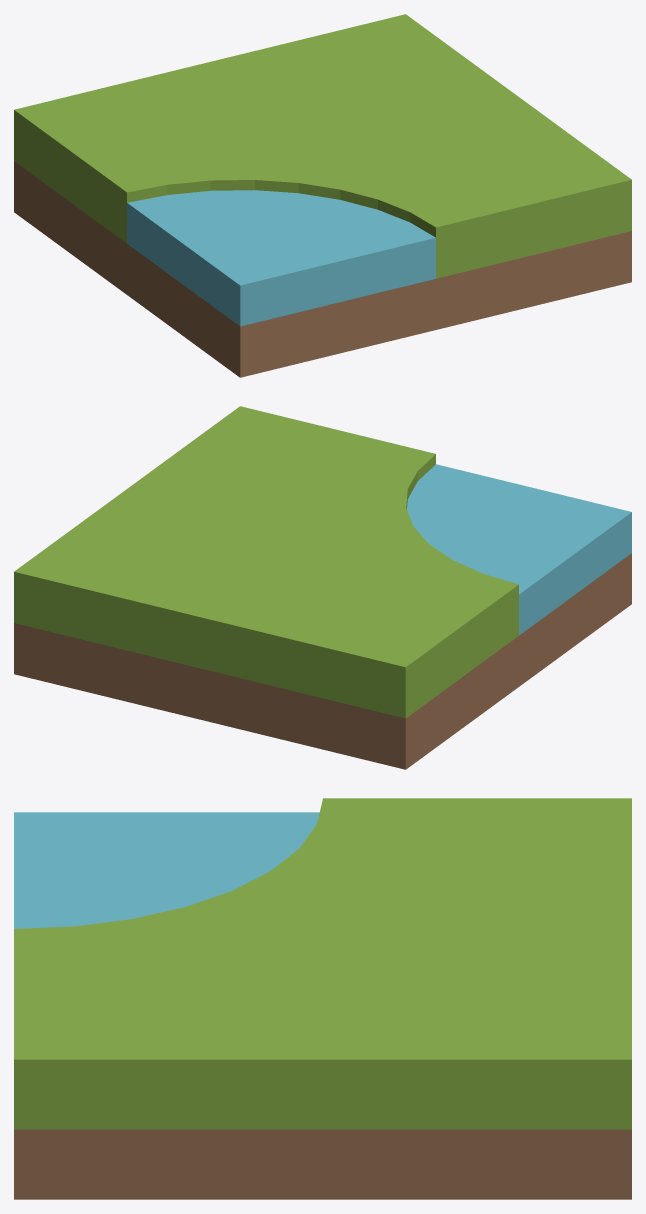
Rendered from water-beddng-concave.obj.
3 views of the same model, one above another, from view 1: azimuth 30°, elevation 25°; view 2: azimuth 150°, elevation 25°; view 3: azimuth 270°, elevation 25° (orthographic). The views are drawn at different scales.
Parts seen in each view (by area): view 1: water-beddng-concave_Cube.043; view 2: water-beddng-concave_Cube.043; view 3: water-beddng-concave_Cube.043.
Boxes of the visible parts, x1,y1,x2,y2 form: water-beddng-concave_Cube.043: (14,14,631,377); water-beddng-concave_Cube.043: (14,406,631,769); water-beddng-concave_Cube.043: (14,798,631,1199).
Bounding box in the file's own units: 8 × 2 × 8.
1 material, 1 textured.
